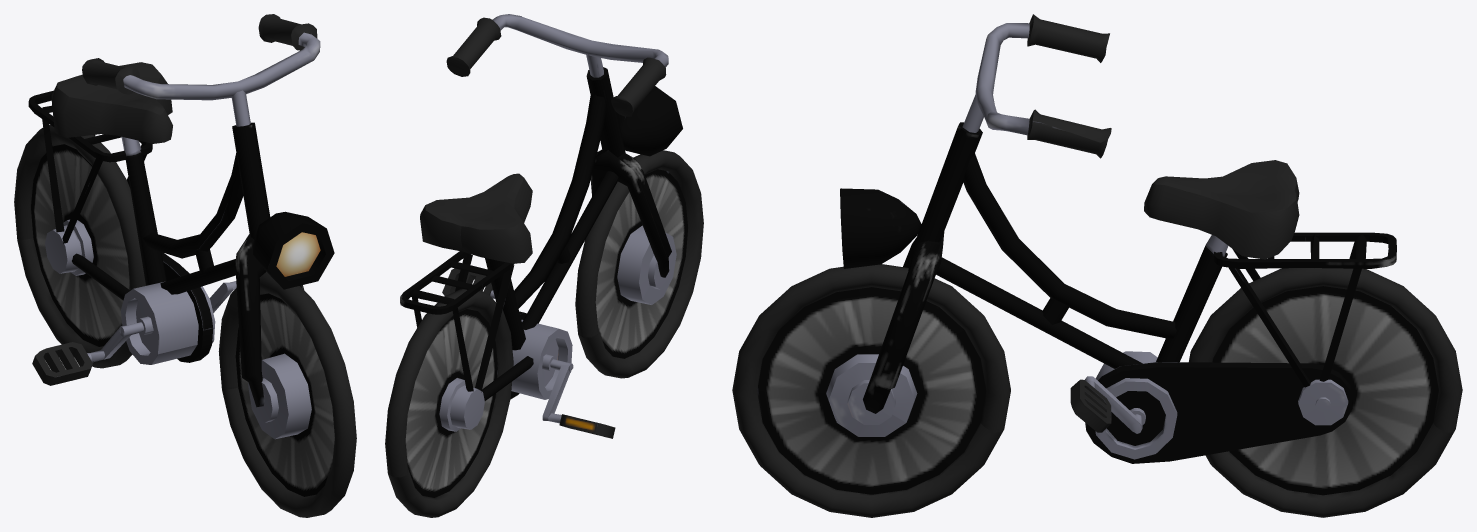
The model's file is Bike_black.fbx.
The picture shows the model from 3 angles, left to right: view 1: azimuth 30°, elevation 25°; view 2: azimuth 150°, elevation 25°; view 3: azimuth 270°, elevation 25°; orthographic projection. The views are drawn at different scales.
Parts seen in each view (by area): view 1: frame_low, voorwiel_low, voorwiel_low.004, lampzadel_low, trap_low; view 2: frame_low, voorwiel_low.004, voorwiel_low, lampzadel_low, trap_low; view 3: voorwiel_low, voorwiel_low.004, frame_low, trap_low, lampzadel_low.
Part boxes in pixels (x1,y1,x2,y2): frame_low: [28, 14, 320, 407]; voorwiel_low: [218, 272, 356, 517]; voorwiel_low.004: [14, 125, 145, 368]; lampzadel_low: [51, 62, 334, 289]; trap_low: [32, 252, 266, 385]; frame_low: [400, 14, 671, 400]; voorwiel_low.004: [385, 289, 513, 517]; voorwiel_low: [575, 150, 703, 378]; lampzadel_low: [420, 86, 682, 263]; trap_low: [442, 268, 615, 438]; voorwiel_low: [732, 264, 1010, 517]; voorwiel_low.004: [1189, 268, 1462, 517]; frame_low: [863, 14, 1396, 413]; trap_low: [1070, 351, 1352, 463]; lampzadel_low: [840, 160, 1299, 268].
Size of the model in its own units: 88.4 by 162 by 237.
